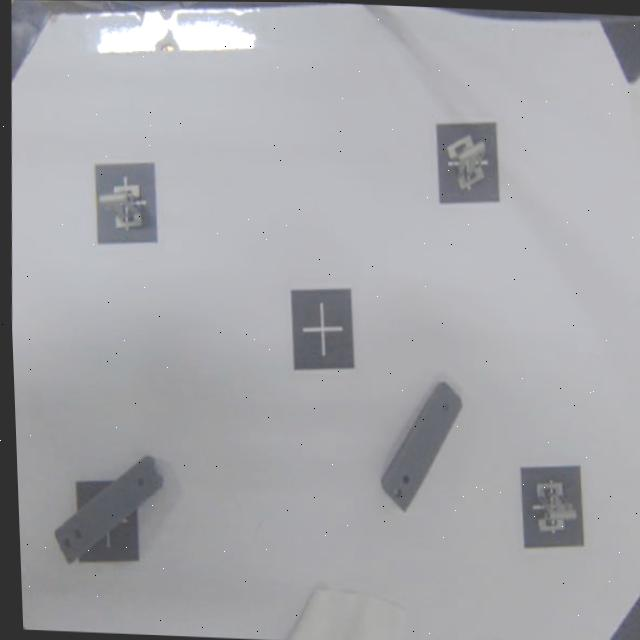pick1: (94, 162, 157, 246)
pick2: (434, 121, 502, 204)
pick5: (518, 464, 586, 549)
